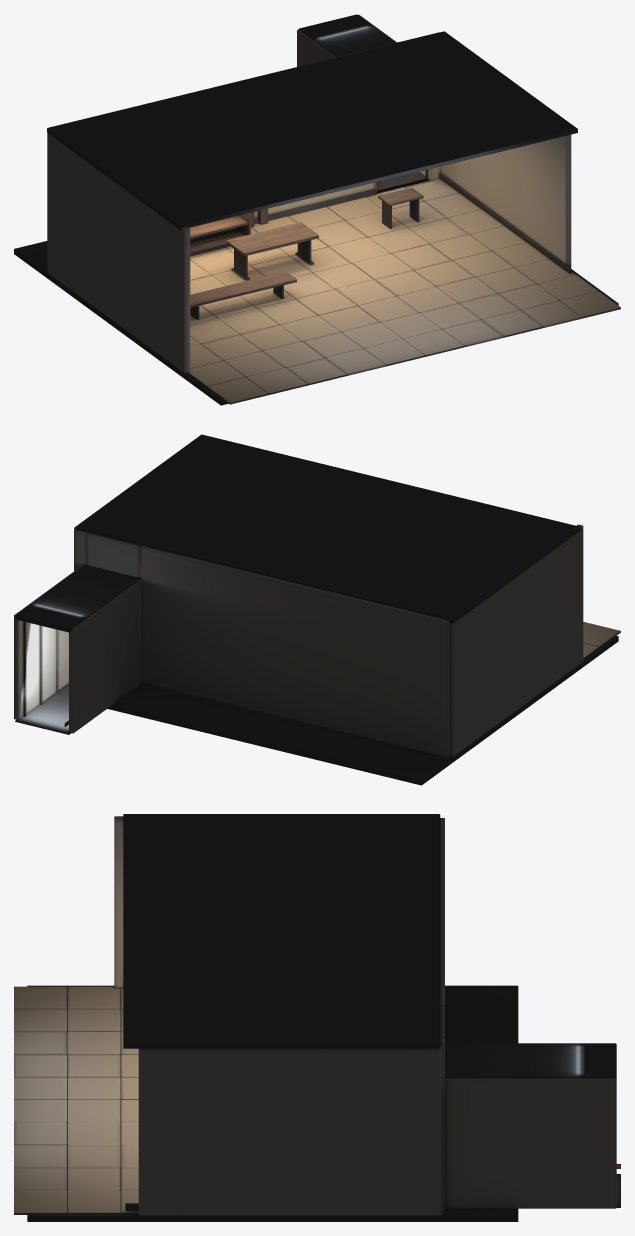
Rendered from room-architecture.glb.
The picture shows the model from 3 angles, top to bottom: view 1: azimuth 30°, elevation 25°; view 2: azimuth 150°, elevation 25°; view 3: azimuth 270°, elevation 25°; orthographic projection. The views are drawn at different scales.
Parts seen in each view (by area): view 1: BakedArchitecture; view 2: BakedArchitecture; view 3: BakedArchitecture.
Boxes of the visible parts, box(x1,y1,x2,y2) form: BakedArchitecture: box(14, 14, 620, 405); BakedArchitecture: box(14, 434, 620, 785); BakedArchitecture: box(14, 814, 620, 1221).
Size of the model in its own units: 12.2 by 4.4 by 13.6.
1 material, 1 textured.
